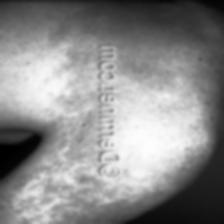Potentially Malignant Skin Tumors: (122, 0, 194, 178), (61, 10, 96, 176), (38, 182, 150, 212)
